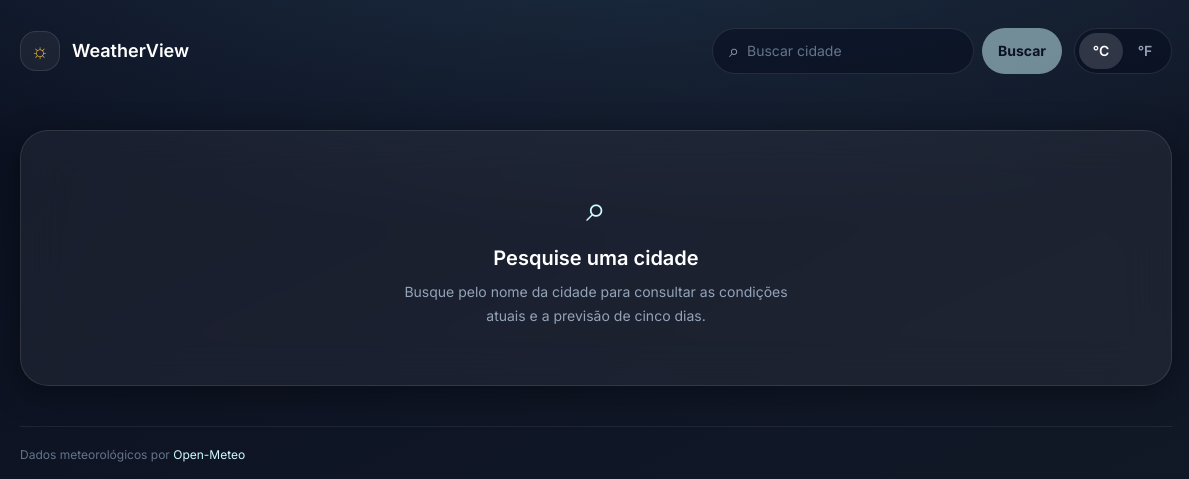
Test: WeatherView › comunica ausência de cidades correspondentes
The image size is (1189, 479).
Type "Reykjavik" into the search field labelled "Buscar cidade". click: (852, 51)
box: [747,29,957,73]
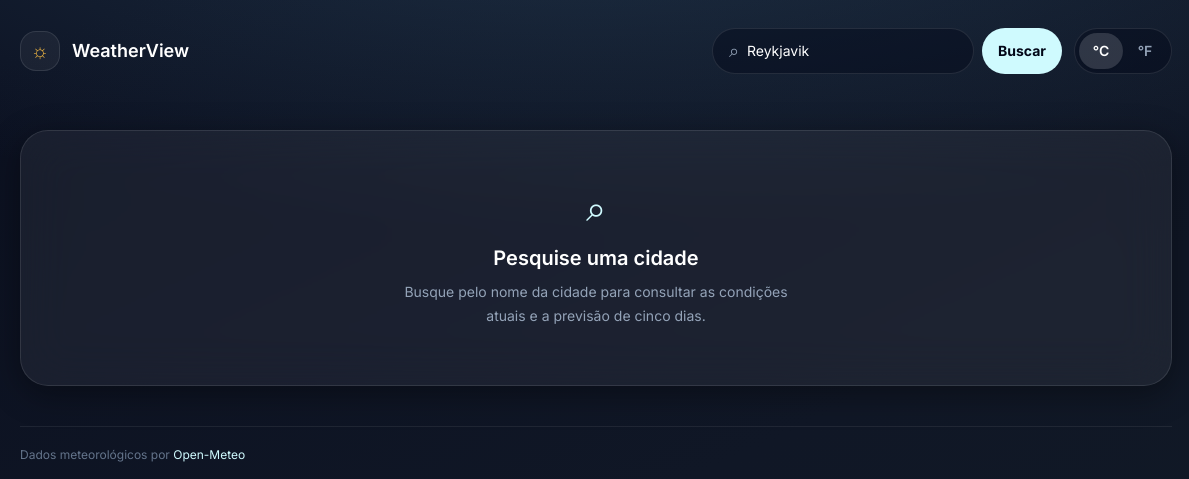
Click the button "Buscar". click: (1022, 51)
box: [982,28,1062,74]
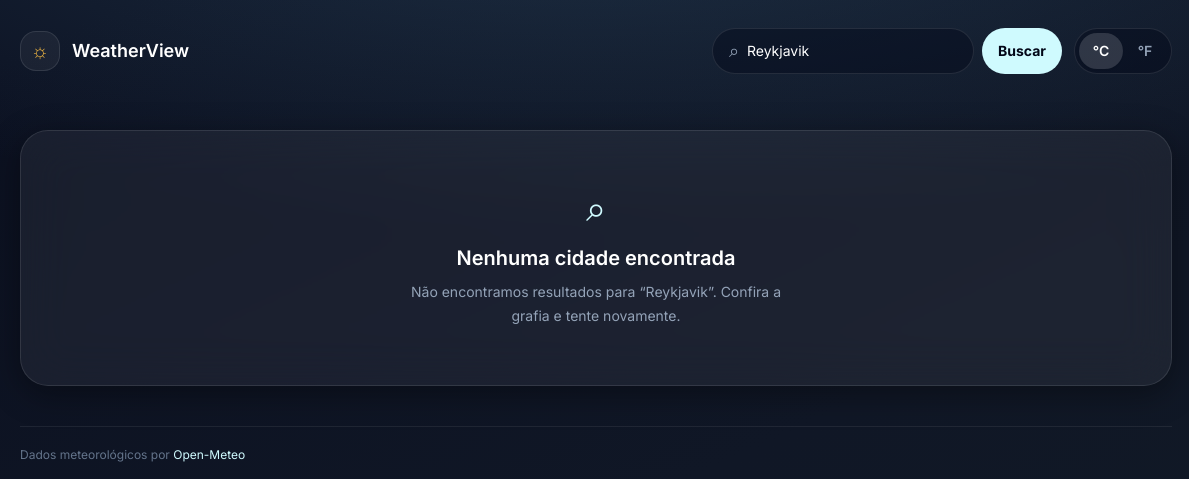
Check: the heading "Nenhuma cidade encontrada" is shown, box [457,244,736,272]
